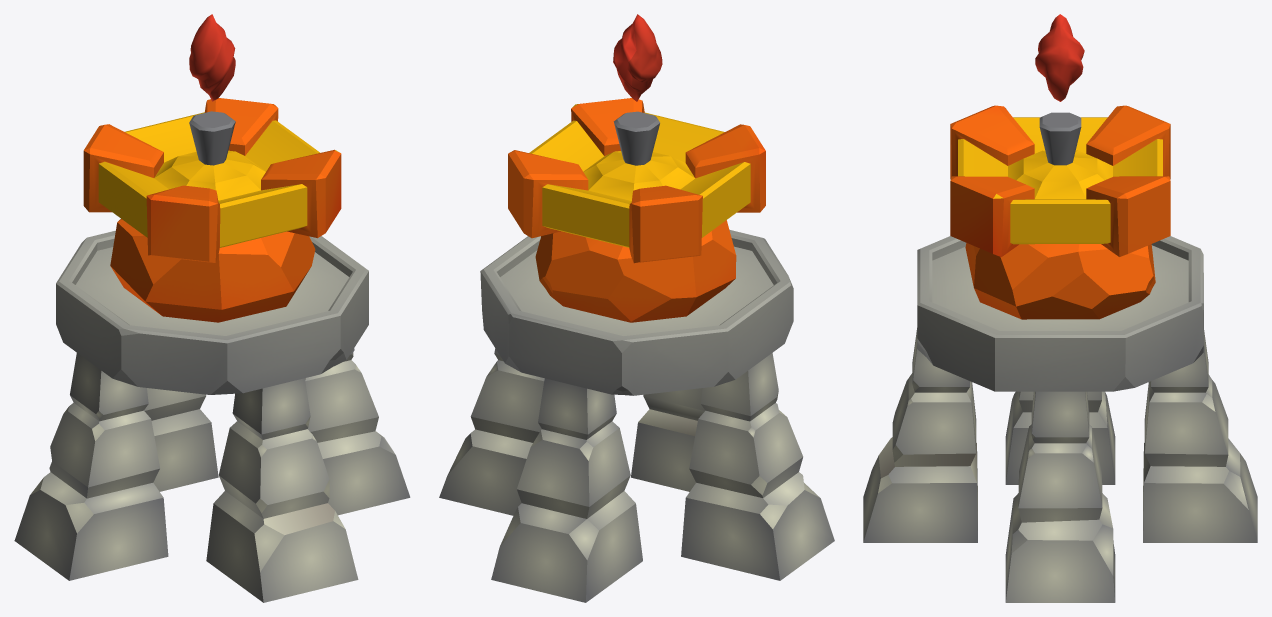
The model's file is island4-firestone1.fbx.
3 renders of one model, left to right at view 1: azimuth 30°, elevation 25°; view 2: azimuth 150°, elevation 25°; view 3: azimuth 270°, elevation 25°, orthographic.
Parts seen in each view (by area): view 1: island4-firestone1, island4-firestone1.01; view 2: island4-firestone1, island4-firestone1.01; view 3: island4-firestone1, island4-firestone1.01.
Part boxes in pixels (x1,y1,x2,y2): island4-firestone1: (14, 98, 410, 602); island4-firestone1.01: (189, 14, 235, 101); island4-firestone1: (439, 98, 834, 602); island4-firestone1.01: (613, 14, 662, 101); island4-firestone1: (863, 105, 1257, 602); island4-firestone1.01: (1035, 14, 1084, 101).
Bounding box in the file's own units: 2.41 × 3.41 × 2.41.
1 material, 1 textured.
